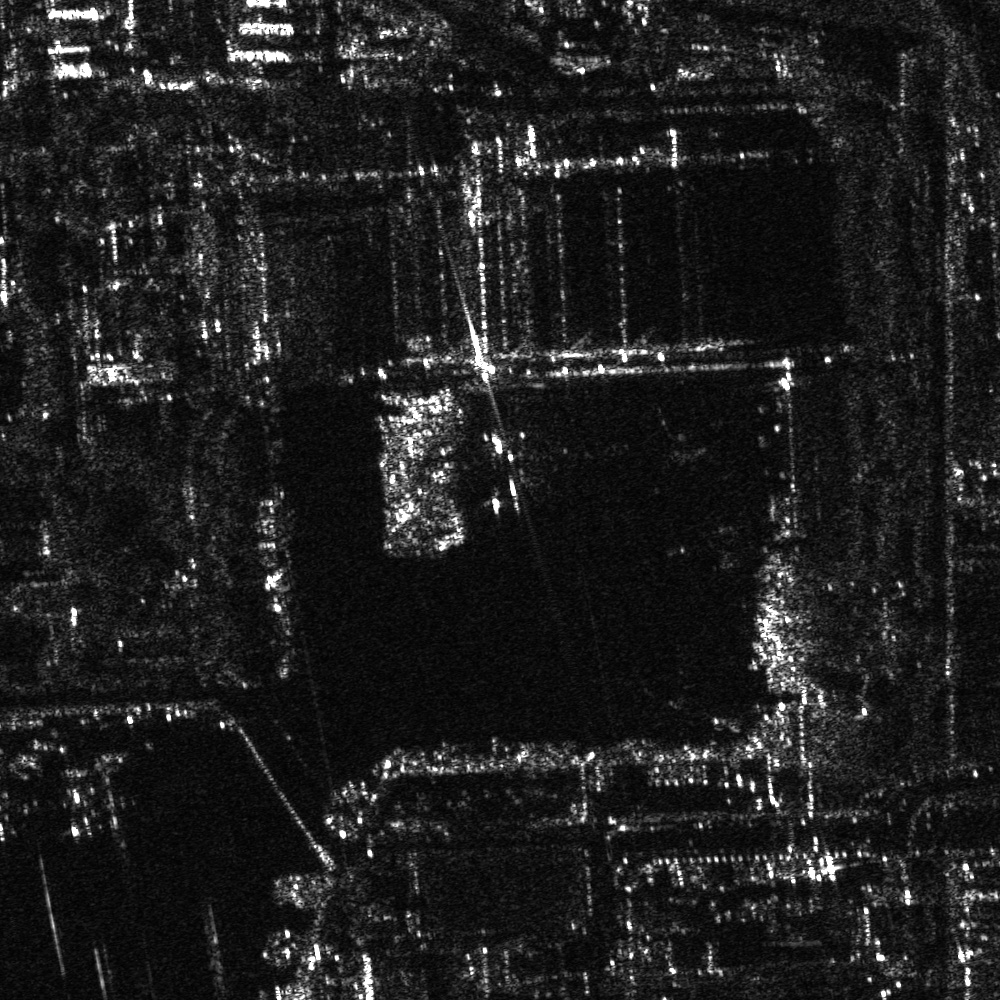Boeing737: (473, 426, 551, 517), (49, 764, 118, 843)
other: (608, 406, 712, 495)
